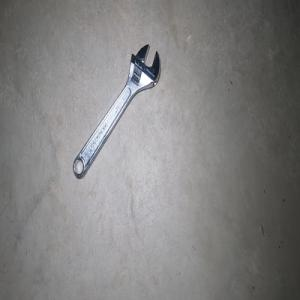Wrench: (72, 43, 159, 178)
